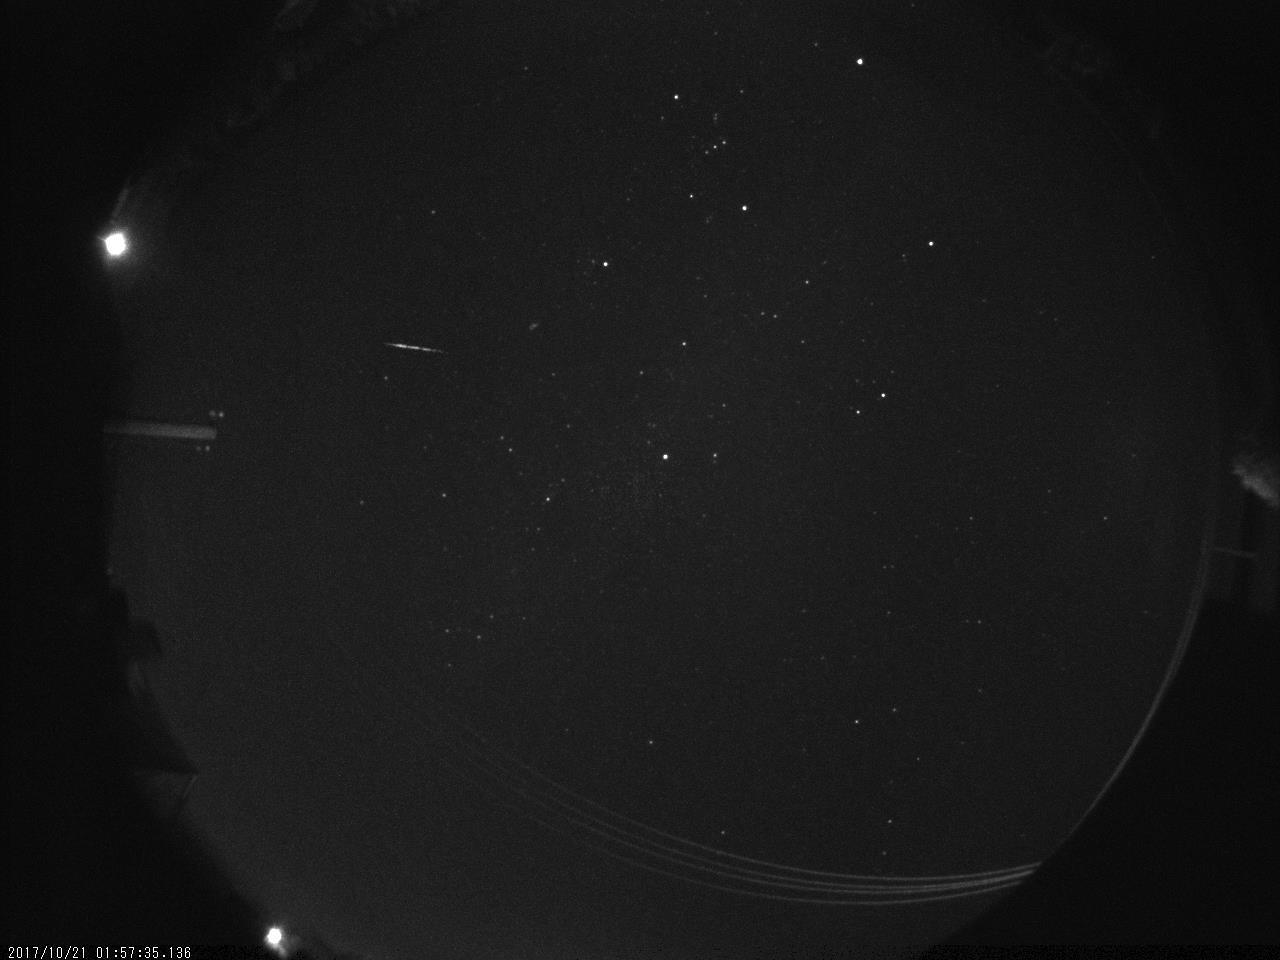Meteor: (370, 332, 453, 363)
